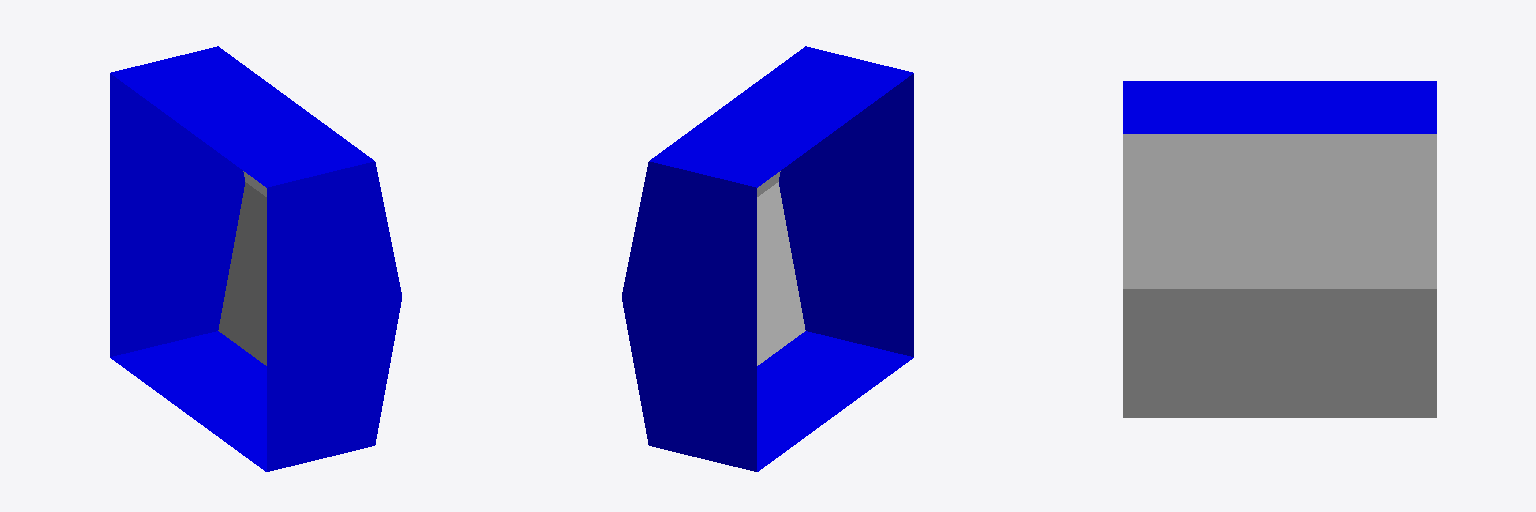
Rendered from torn-member.obj.
3 views of the same model, side by side, from view 1: azimuth 30°, elevation 25°; view 2: azimuth 150°, elevation 25°; view 3: azimuth 270°, elevation 25° (orthographic).
Bounding box in the file's own units: 0.5 × 1 × 1.